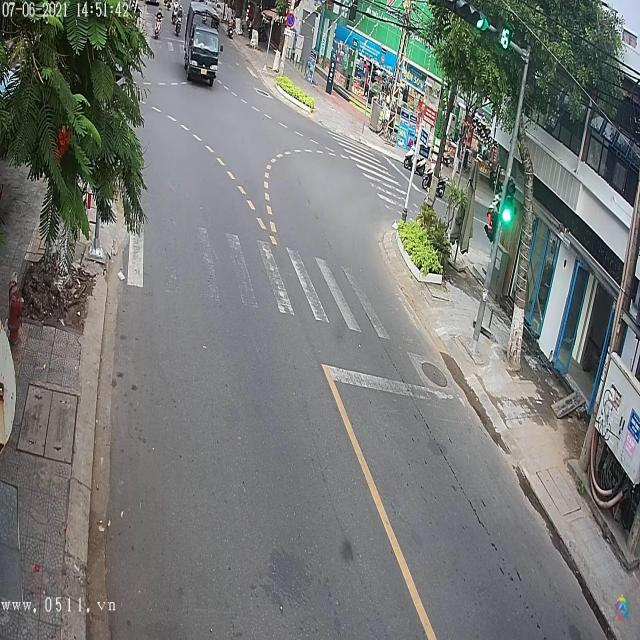truck: (184, 7, 221, 85)
